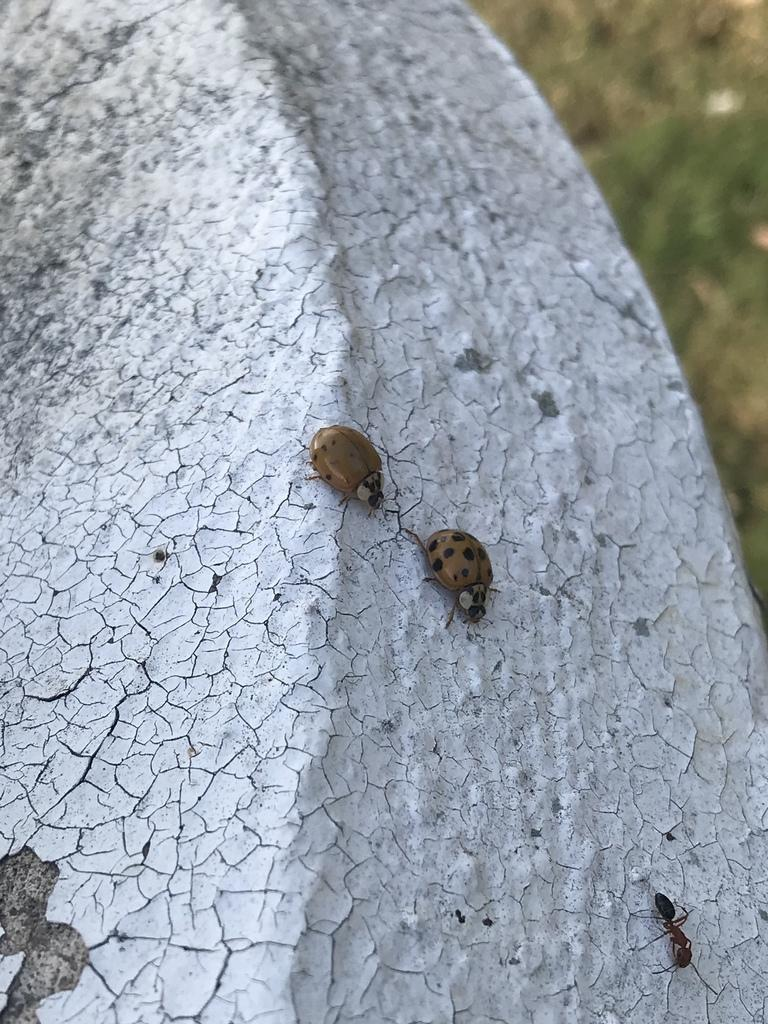ladybug: (401, 524, 506, 634), (299, 421, 396, 521)
